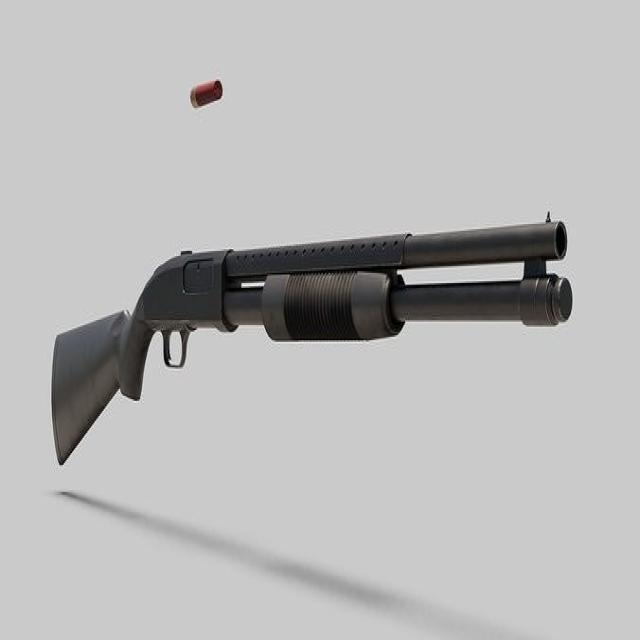ShotGun: (50, 217, 575, 465)
